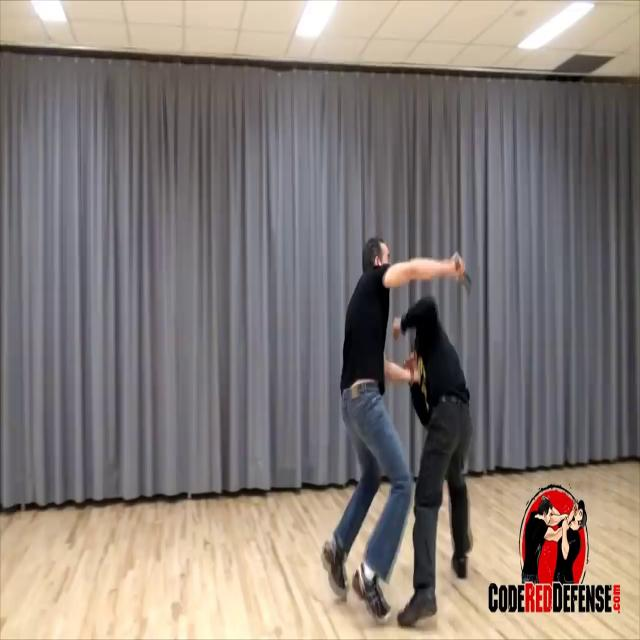Knife_Handle: (452, 250, 472, 288)
